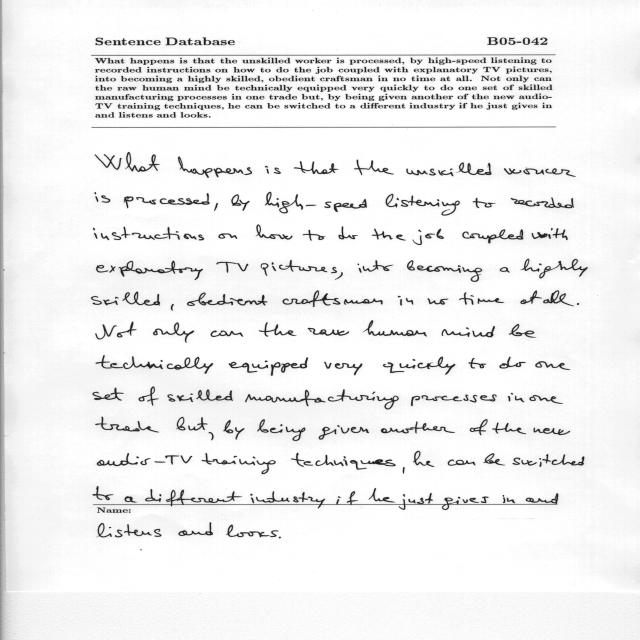word: (227, 488, 558, 505), (227, 491, 558, 505), (227, 491, 558, 505), (227, 491, 558, 505), (227, 491, 558, 505), (245, 390, 399, 410), (96, 355, 213, 374), (265, 192, 367, 213), (96, 261, 203, 280), (291, 453, 396, 470), (283, 290, 383, 307), (407, 260, 482, 282), (178, 156, 252, 178), (386, 194, 460, 216), (94, 227, 205, 241), (202, 453, 276, 474), (229, 357, 308, 376), (166, 490, 254, 505), (95, 152, 160, 172), (383, 357, 455, 375), (520, 259, 588, 278), (124, 193, 210, 208), (98, 453, 193, 466), (407, 163, 492, 177), (187, 292, 268, 306), (257, 419, 306, 441), (261, 260, 327, 276), (362, 321, 427, 337), (91, 291, 160, 306), (411, 394, 497, 406), (381, 421, 455, 434), (96, 417, 159, 432), (513, 454, 585, 467), (425, 493, 515, 503), (462, 230, 524, 244), (153, 322, 194, 343), (168, 389, 233, 402), (319, 425, 369, 440), (96, 322, 137, 340), (511, 198, 574, 209), (504, 168, 576, 177), (354, 160, 394, 175), (294, 161, 339, 174), (459, 292, 504, 305), (442, 326, 495, 337), (259, 322, 297, 337), (256, 225, 292, 240), (413, 229, 444, 245), (543, 291, 574, 307), (324, 362, 362, 375), (358, 260, 394, 273), (532, 228, 568, 240), (224, 420, 245, 440), (176, 417, 208, 430), (372, 229, 406, 241), (492, 423, 526, 435), (93, 388, 124, 401), (139, 387, 159, 406), (509, 324, 536, 338), (217, 262, 249, 273), (413, 451, 435, 467), (308, 328, 349, 336), (499, 357, 526, 369), (231, 194, 250, 211), (535, 361, 570, 370), (520, 290, 542, 304), (529, 395, 563, 404), (533, 427, 570, 435), (93, 486, 114, 500), (470, 419, 488, 435), (484, 453, 506, 466), (338, 227, 358, 240), (303, 230, 325, 241), (473, 198, 496, 208), (211, 330, 243, 337), (145, 489, 161, 502), (469, 358, 487, 369), (448, 459, 476, 466), (95, 192, 110, 203), (331, 267, 343, 280), (508, 393, 525, 402), (398, 296, 413, 306), (428, 298, 449, 305), (265, 166, 281, 174), (219, 233, 238, 239), (125, 496, 137, 503), (500, 267, 510, 273), (209, 432, 214, 440), (214, 203, 218, 211), (171, 304, 174, 311), (403, 467, 405, 474), (577, 303, 579, 305)
